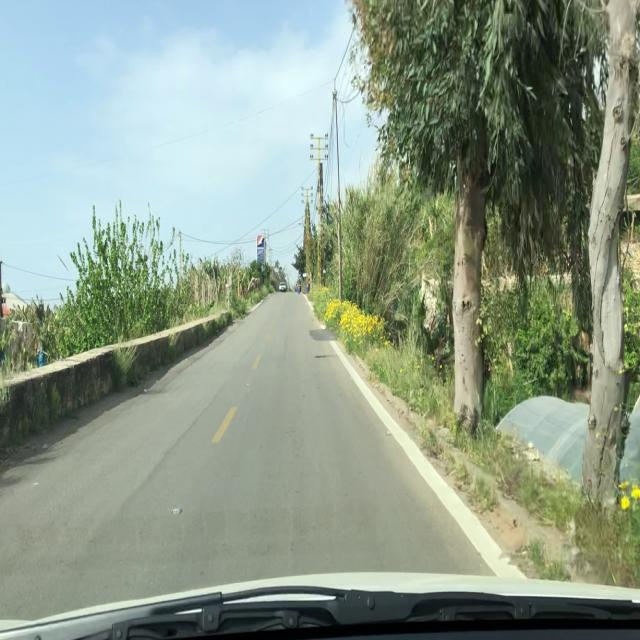Pothole: (313, 354, 334, 360)
